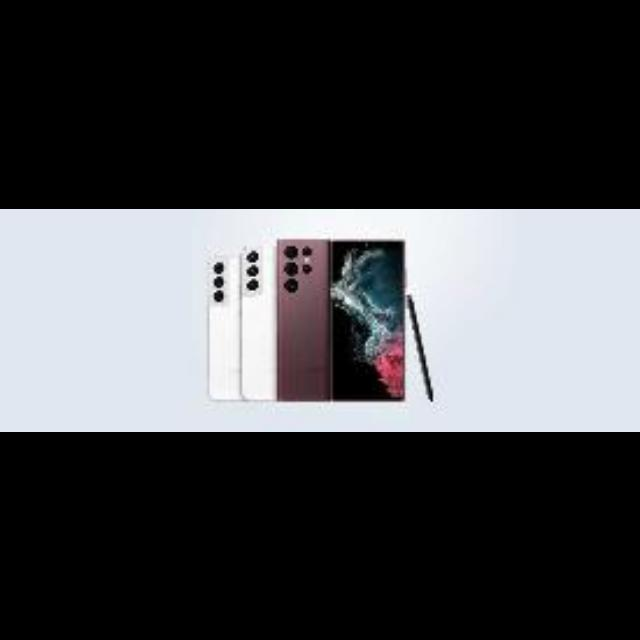phone: (311, 225, 430, 430)
